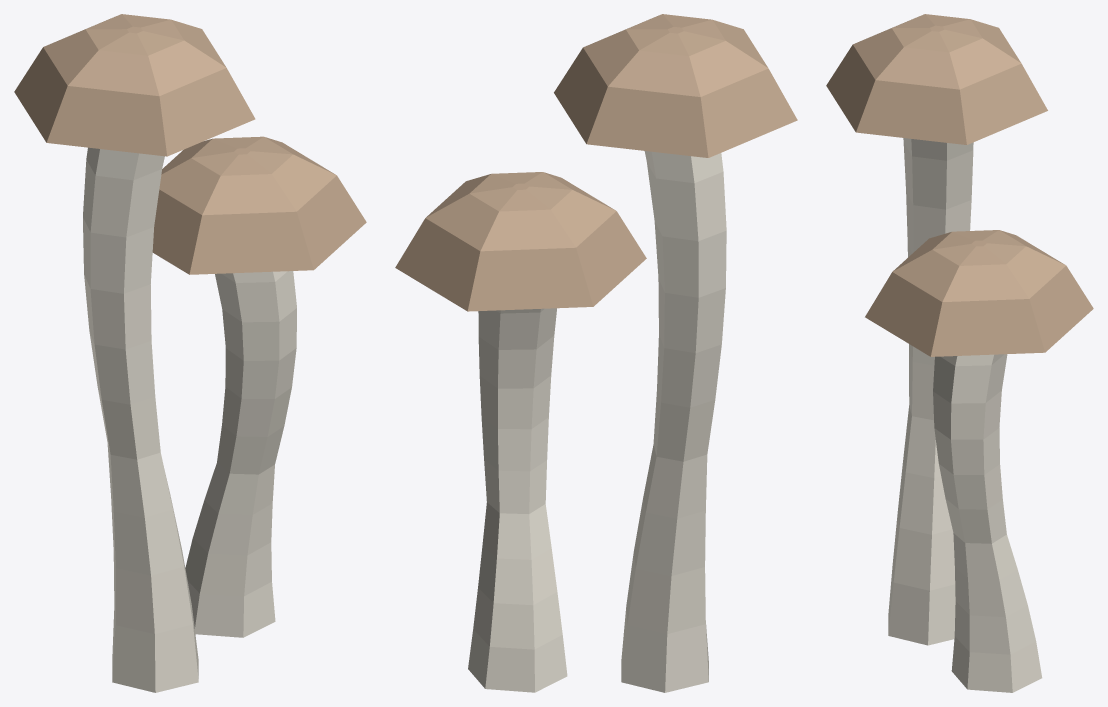
Rendered from shimeji.glb.
3 views of the same model, side by side, from view 1: azimuth 30°, elevation 25°; view 2: azimuth 150°, elevation 25°; view 3: azimuth 270°, elevation 25° (orthographic). The views are drawn at different scales.
Parts seen in each view (by area): view 1: Shimeji_A_Stem, Shimeji_A2_Stem, Shimeji_A_Cap, Shimeji_A2_Cap; view 2: Shimeji_A_Stem, Shimeji_A2_Stem, Shimeji_A2_Cap, Shimeji_A_Cap; view 3: Shimeji_A2_Stem, Shimeji_A2_Cap, Shimeji_A_Cap, Shimeji_A_Stem.
Boxes of the visible parts, x1,y1,x2,y2 form: Shimeji_A_Stem: (83, 147, 198, 692); Shimeji_A2_Stem: (185, 271, 296, 637); Shimeji_A_Cap: (14, 14, 255, 156); Shimeji_A2_Cap: (152, 136, 366, 274); Shimeji_A_Stem: (621, 151, 726, 692); Shimeji_A2_Stem: (468, 308, 567, 692); Shimeji_A2_Cap: (395, 172, 646, 311); Shimeji_A_Cap: (554, 14, 797, 157); Shimeji_A2_Stem: (933, 354, 1042, 692); Shimeji_A2_Cap: (865, 230, 1093, 356); Shimeji_A_Cap: (826, 14, 1047, 144); Shimeji_A_Stem: (888, 138, 973, 645).
Size of the model in its own units: 0.9227 by 1.7 by 0.6985.
